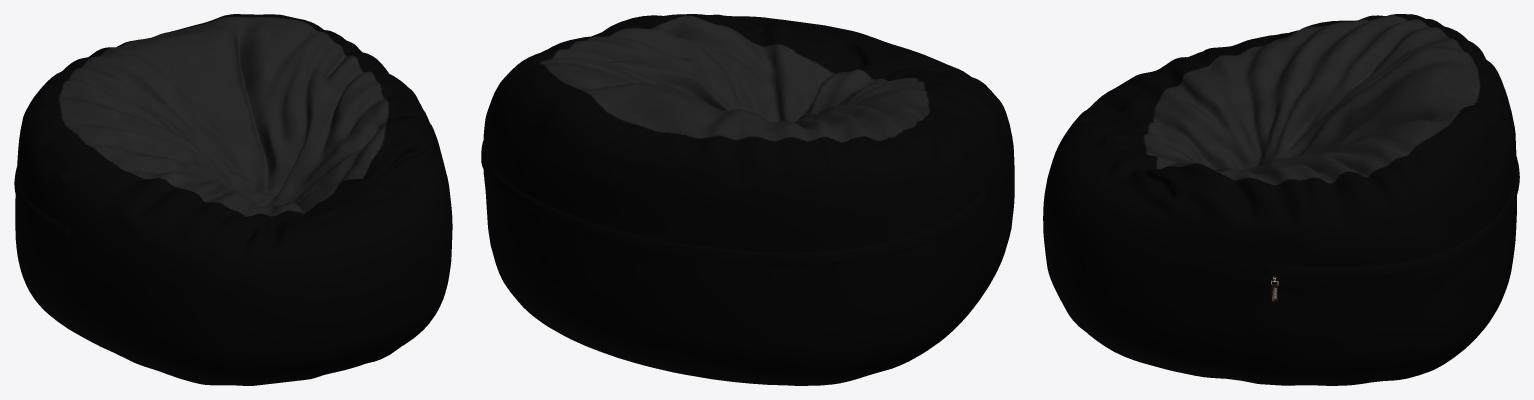
File: abo-B07TR63RWQ.glb
3 renders of one model, left to right at view 1: azimuth 30°, elevation 25°; view 2: azimuth 150°, elevation 25°; view 3: azimuth 270°, elevation 25°, orthographic. The views are drawn at different scales.
Size of the model in its own units: 1.52 by 0.8776 by 1.52.
Materials: 1 (1 with a texture image).
